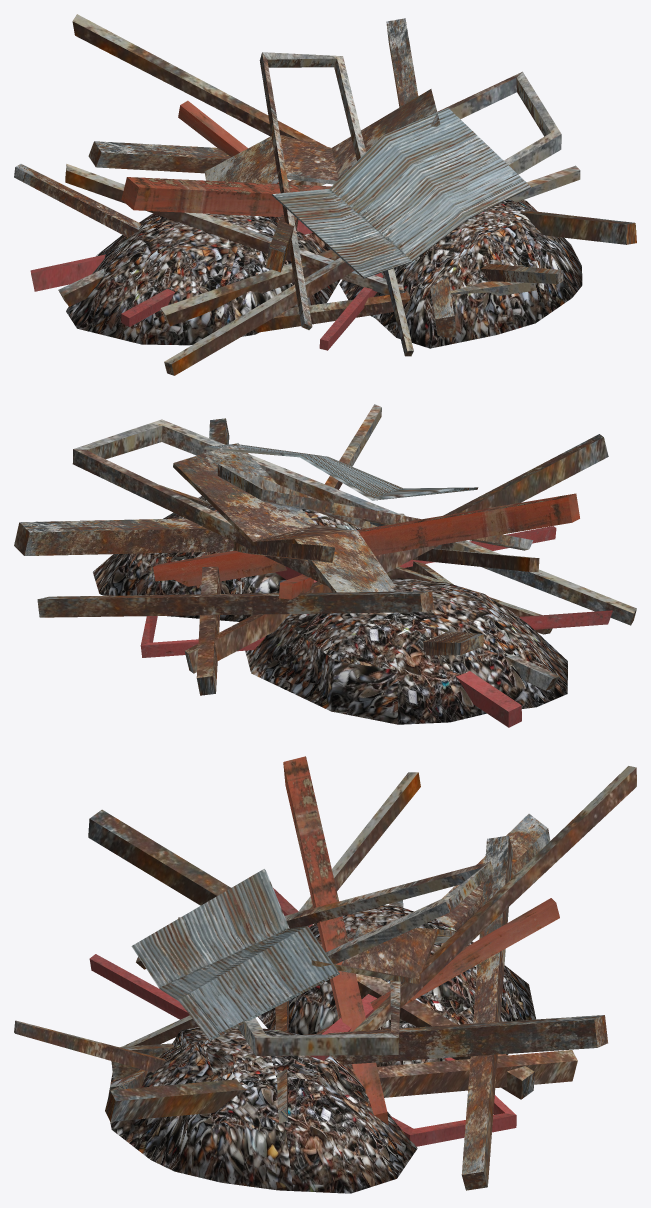
The model's file is garbage_heap.glb.
The picture shows the model from 3 angles, top to bottom: view 1: azimuth 30°, elevation 25°; view 2: azimuth 150°, elevation 25°; view 3: azimuth 270°, elevation 25°; orthographic projection. The views are drawn at different scales.
Parts seen in each view (by area): view 1: garbageheap_4_0; view 2: garbageheap_4_0; view 3: garbageheap_4_0.
Part boxes in pixels (bbox=[...]): garbageheap_4_0: bbox=[14, 14, 636, 375]; garbageheap_4_0: bbox=[14, 404, 636, 727]; garbageheap_4_0: bbox=[14, 756, 636, 1193].
Bounding box in the file's own units: 19.06 × 7.91 × 18.92.
5 materials, 5 textured.
